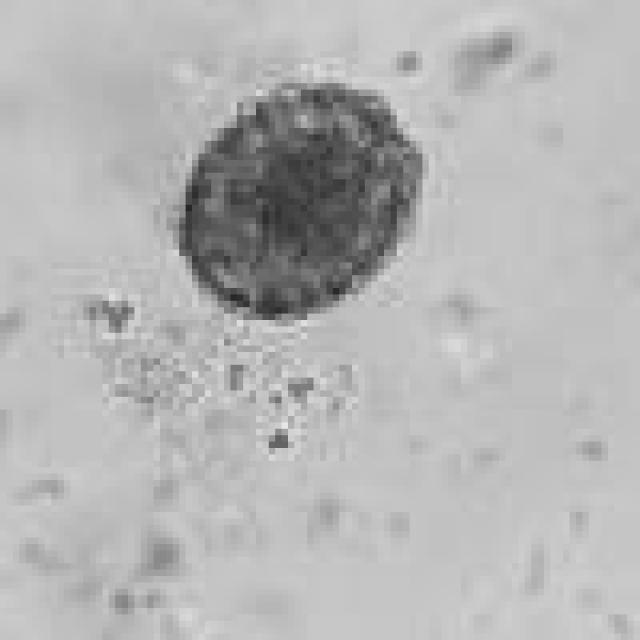Ascaris Lumbricoides: (160, 70, 429, 333)
